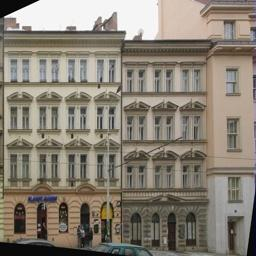building: (3, 19, 122, 245)
